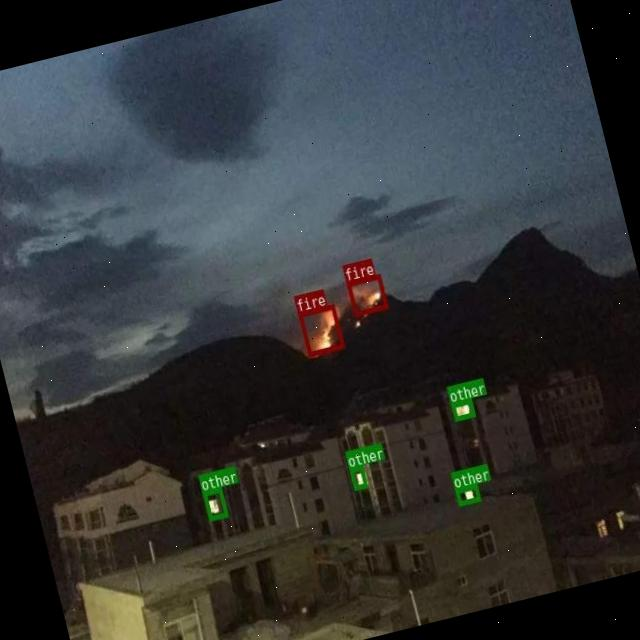fire: (297, 304, 343, 356), (345, 272, 387, 316)
